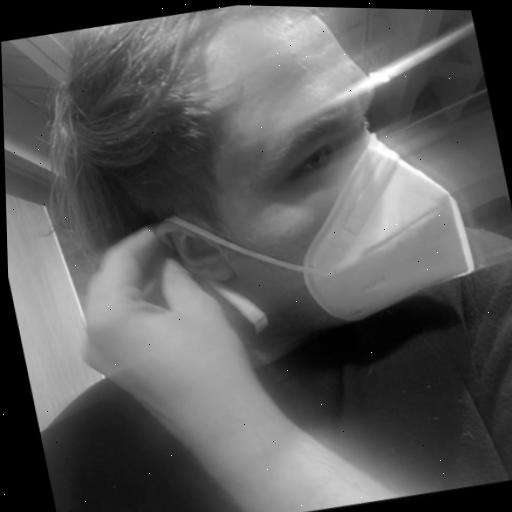mask: (54, 1, 512, 354)
